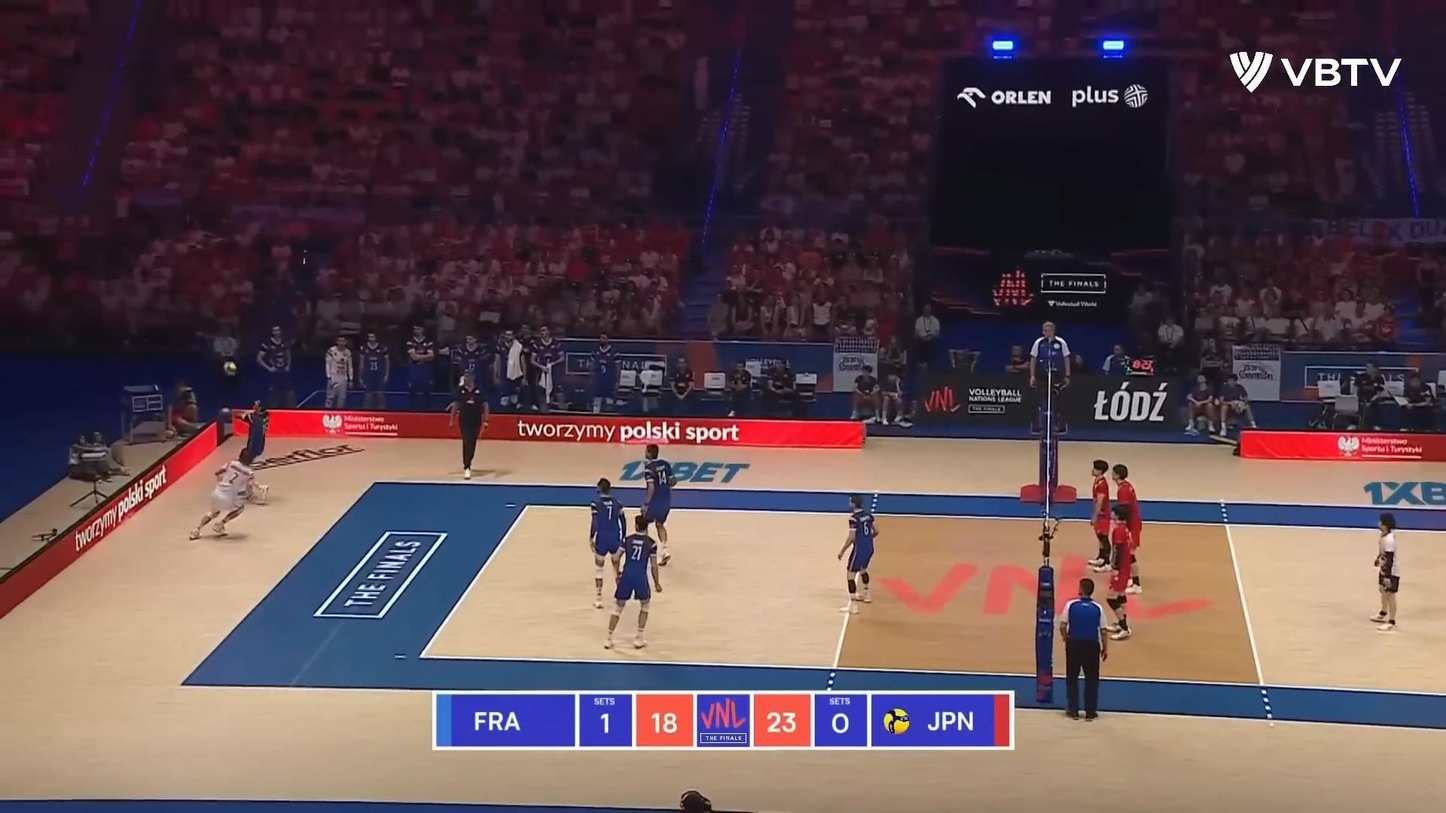ball: (223, 361, 237, 374)
